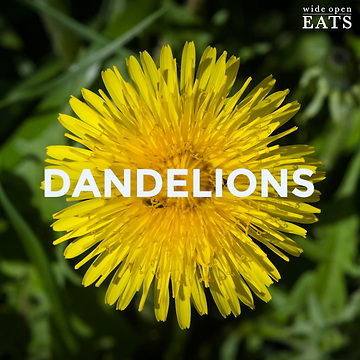dandelion: (30, 49, 312, 327)
